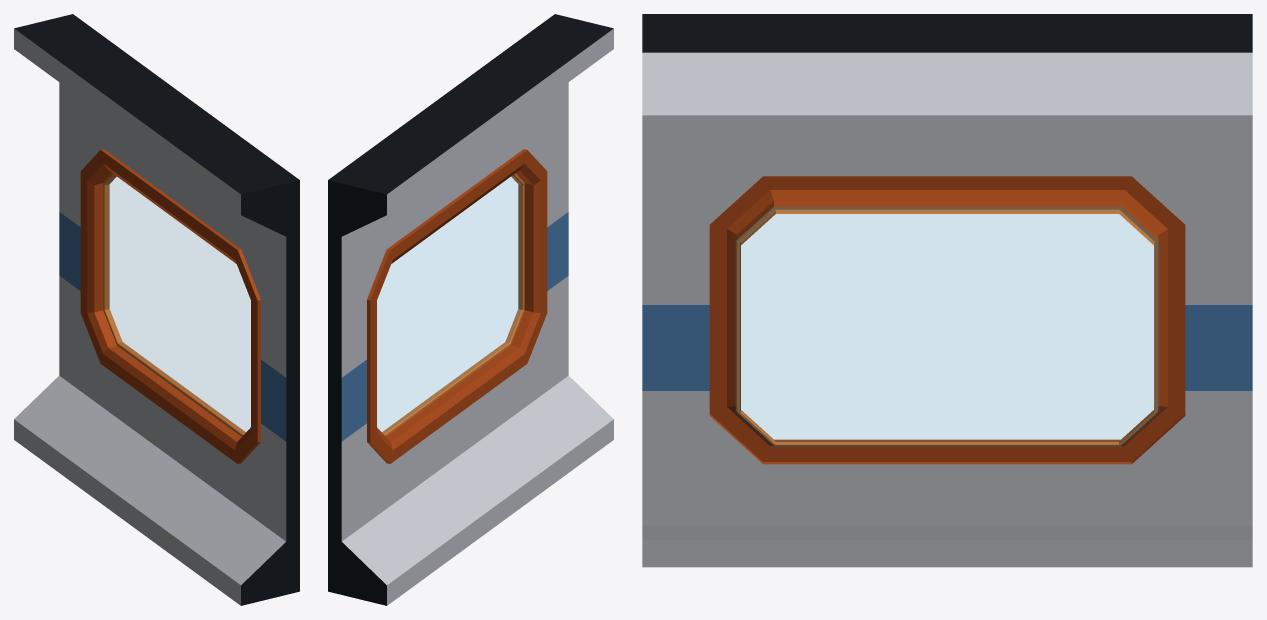
The model's file is sm_Wall_Straight_A_01.fbx.
3 views of the same model, side by side, from view 1: azimuth 30°, elevation 25°; view 2: azimuth 150°, elevation 25°; view 3: azimuth 270°, elevation 25° (orthographic). The views are drawn at different scales.
Parts seen in each view (by area): view 1: Wall_Straight_A_01; view 2: Wall_Straight_A_01; view 3: Wall_Straight_A_01.
Part boxes in pixels (bbox=[...]): Wall_Straight_A_01: bbox=[14, 14, 299, 605]; Wall_Straight_A_01: bbox=[328, 14, 613, 605]; Wall_Straight_A_01: bbox=[642, 14, 1252, 567].
Bounding box in the file's own units: 200 × 200 × 30.
